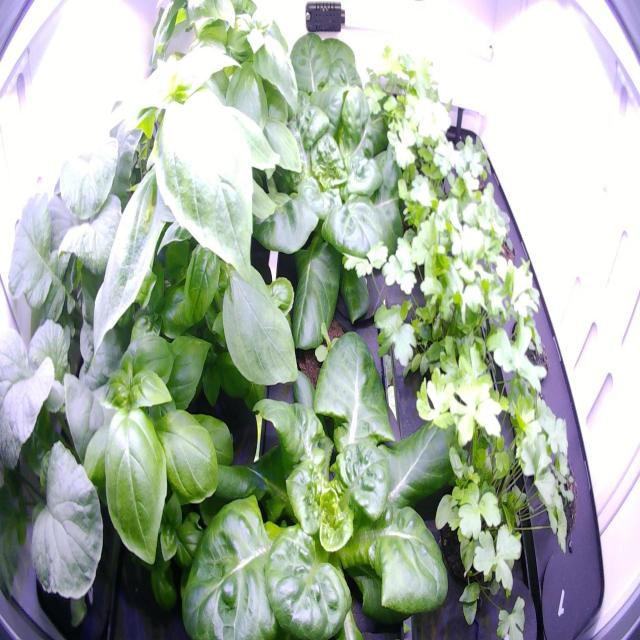young: (172, 318, 467, 640), (232, 67, 430, 372), (255, 18, 384, 149), (280, 287, 362, 413)
